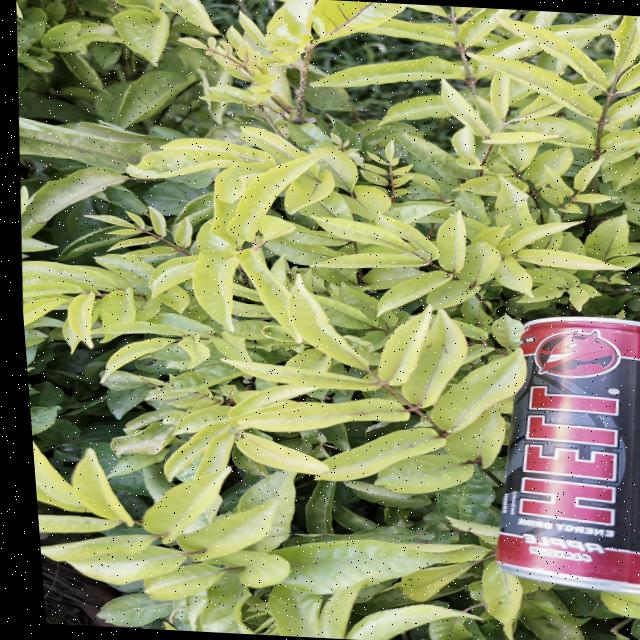Hell Apple: (456, 307, 640, 592)
